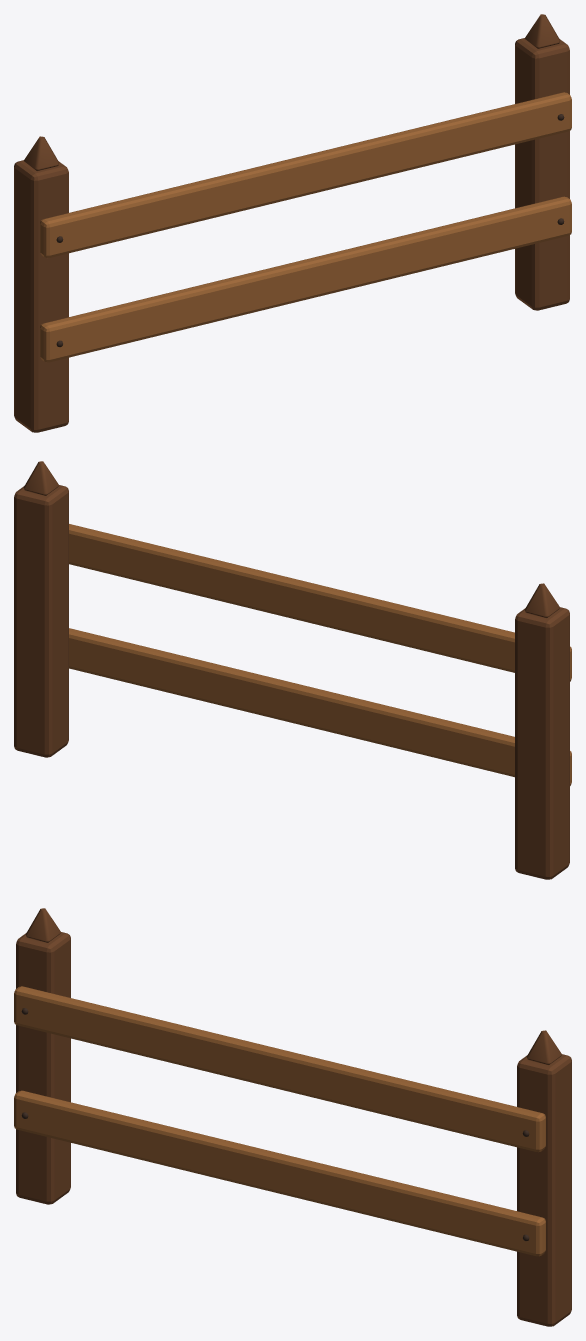
Rendered from fence.glb.
3 views of the same model, one above another, from view 1: azimuth 30°, elevation 25°; view 2: azimuth 150°, elevation 25°; view 3: azimuth 330°, elevation 25° (orthographic).
Visible parts, largest first — view 1: fence; view 2: fence; view 3: fence.
Part boxes in pixels (<box>): fence: <box>14,14,571,432</box>; fence: <box>14,461,571,879</box>; fence: <box>14,908,571,1326</box>.
Bounding box in the file's own units: 2 × 1.01 × 0.198.
